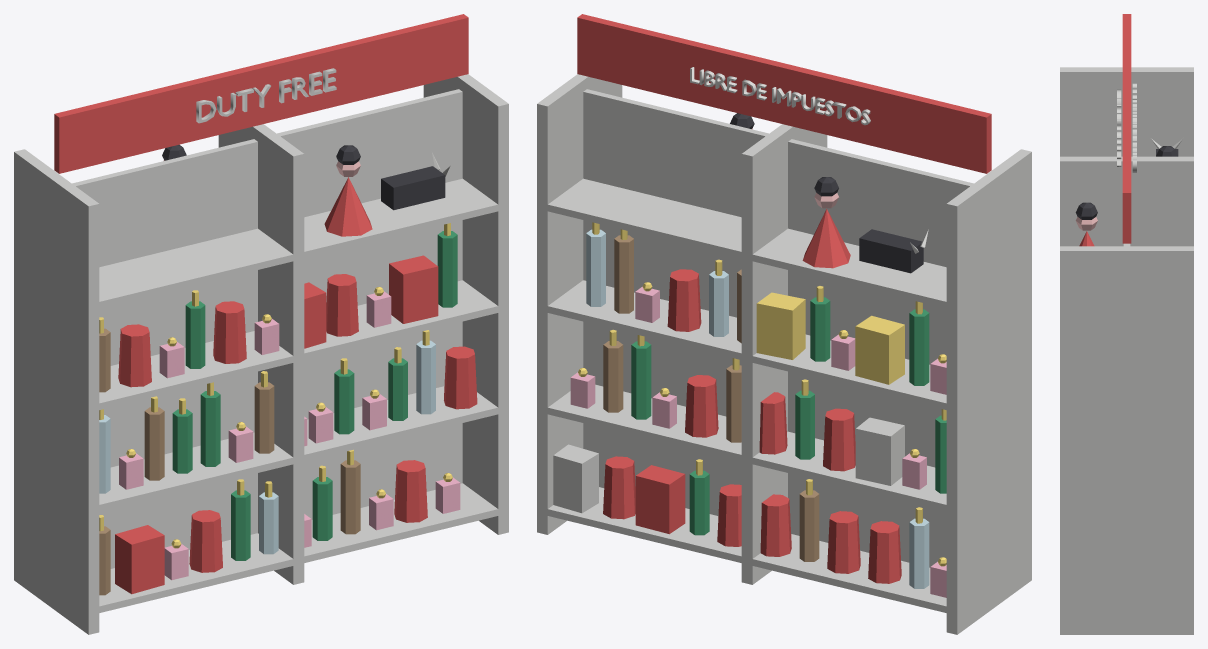
The model's file is CR_EstanteTienda.fbx.
3 renders of one model, left to right at view 1: azimuth 30°, elevation 25°; view 2: azimuth 150°, elevation 25°; view 3: azimuth 270°, elevation 25°, orthographic. The views are drawn at different scales.
Parts seen in each view (by area): view 1: CR_EstanteTienda; view 2: CR_EstanteTienda; view 3: CR_EstanteTienda.
Part boxes in pixels (<box>): CR_EstanteTienda: <box>14,14,508,634</box>; CR_EstanteTienda: <box>537,14,1031,634</box>; CR_EstanteTienda: <box>1060,14,1193,634</box>.
Bounding box in the file's own units: 1.95 × 2.17 × 0.6.
